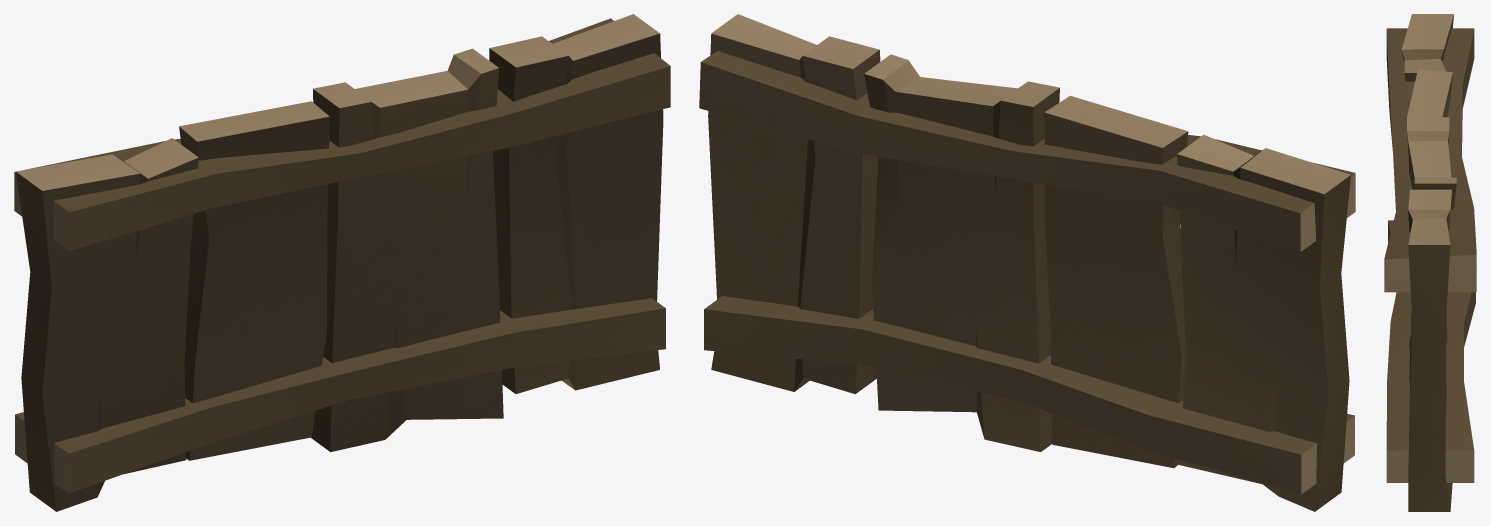
The model's file is Muralla_Madera.fbx.
3 renders of one model, left to right at view 1: azimuth 30°, elevation 25°; view 2: azimuth 150°, elevation 25°; view 3: azimuth 270°, elevation 25°, orthographic. The views are drawn at different scales.
Parts seen in each view (by area): view 1: scaffolding_1x2_wall_mounted; view 2: scaffolding_1x2_wall_mounted; view 3: scaffolding_1x2_wall_mounted.
Boxes of the visible parts, x1=… form: scaffolding_1x2_wall_mounted: x1=14, y1=14, x2=670, y2=511; scaffolding_1x2_wall_mounted: x1=699, y1=14, x2=1355, y2=511; scaffolding_1x2_wall_mounted: x1=1384, y1=14, x2=1476, y2=511.
Size of the model in its own units: 198 by 105 by 32.26.
